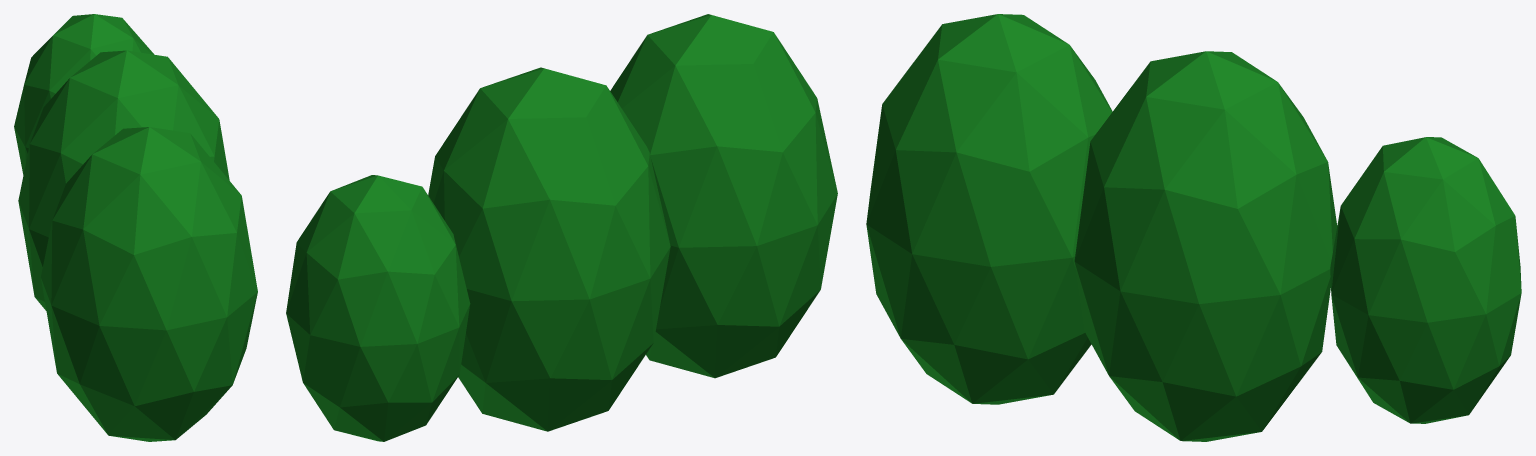
The model's file is blockout1.treecluster2.fbx.
3 renders of one model, left to right at view 1: azimuth 30°, elevation 25°; view 2: azimuth 150°, elevation 25°; view 3: azimuth 270°, elevation 25°, orthographic. The views are drawn at different scales.
Visible parts, largest first — view 1: Icosphere.046; view 2: Icosphere.046; view 3: Icosphere.046.
Part boxes in pixels (left/top/right/bottom): Icosphere.046: left=14, top=14, right=257, bottom=441; Icosphere.046: left=286, top=14, right=837, bottom=441; Icosphere.046: left=866, top=14, right=1521, bottom=441.
Bounding box in the file's own units: 496 × 529 × 804.
